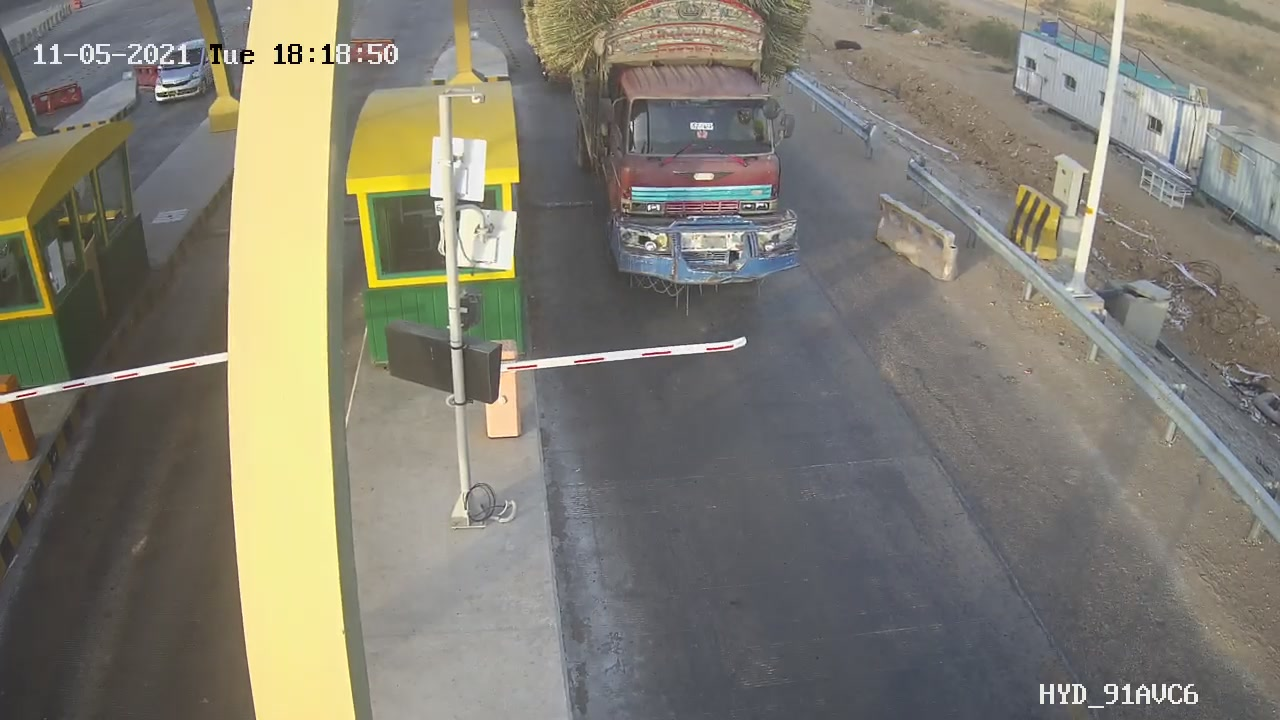F5: (570, 9, 817, 312)
